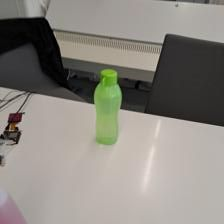bottle: (90, 65, 125, 146)
